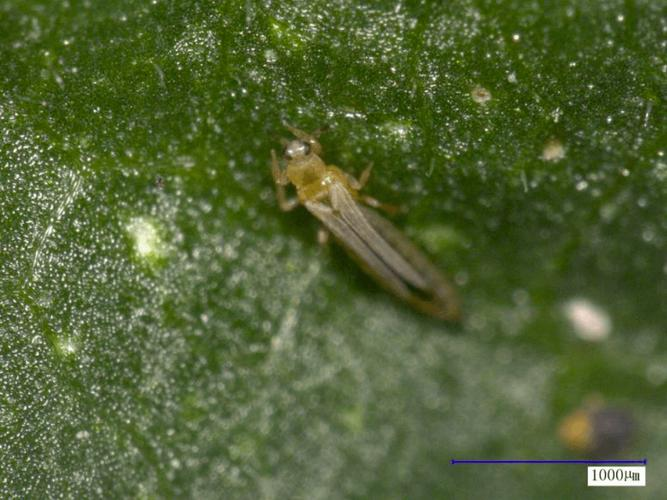Thripidae: (265, 115, 471, 325)
